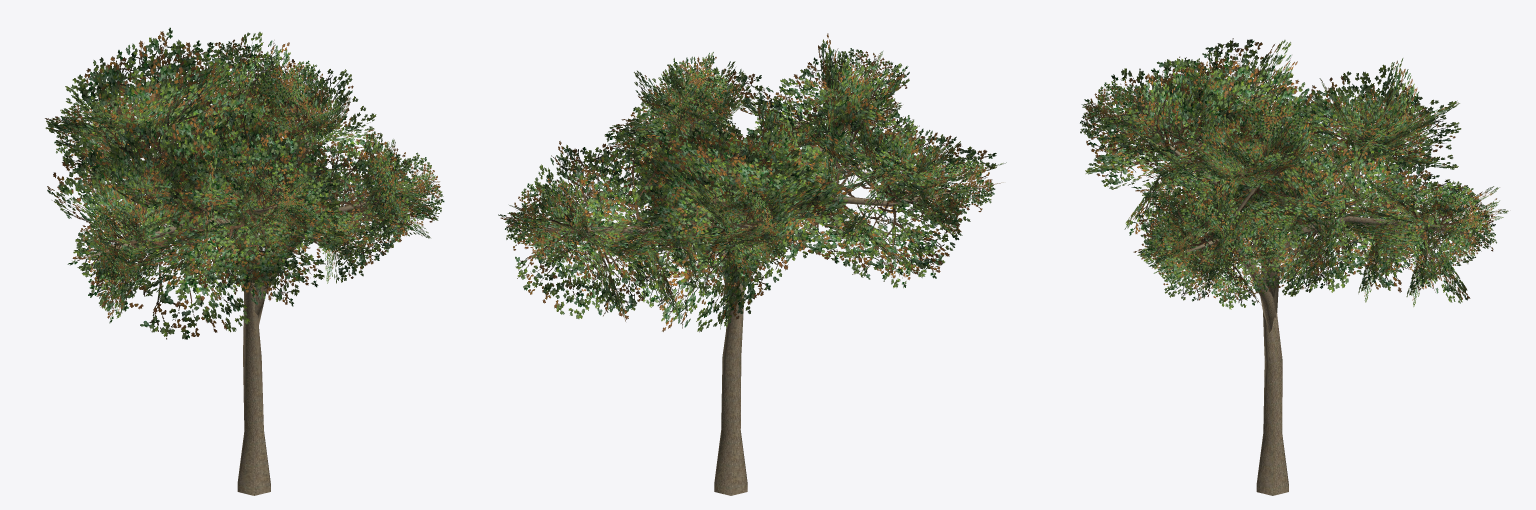
Rendered from decd_mapletreeleaves_a2_l0.fbx.
3 renders of one model, left to right at view 1: azimuth 30°, elevation 25°; view 2: azimuth 150°, elevation 25°; view 3: azimuth 270°, elevation 25°, orthographic. The views are drawn at different scales.
Parts seen in each view (by area): view 1: mesh_node; view 2: mesh_node; view 3: mesh_node.
Boxes of the visible parts, x1,y1,x2,y2 form: mesh_node: (45,27,444,495); mesh_node: (498,33,1006,495); mesh_node: (1080,38,1508,495).
Size of the model in its own units: 26.61 by 27.87 by 28.7.
